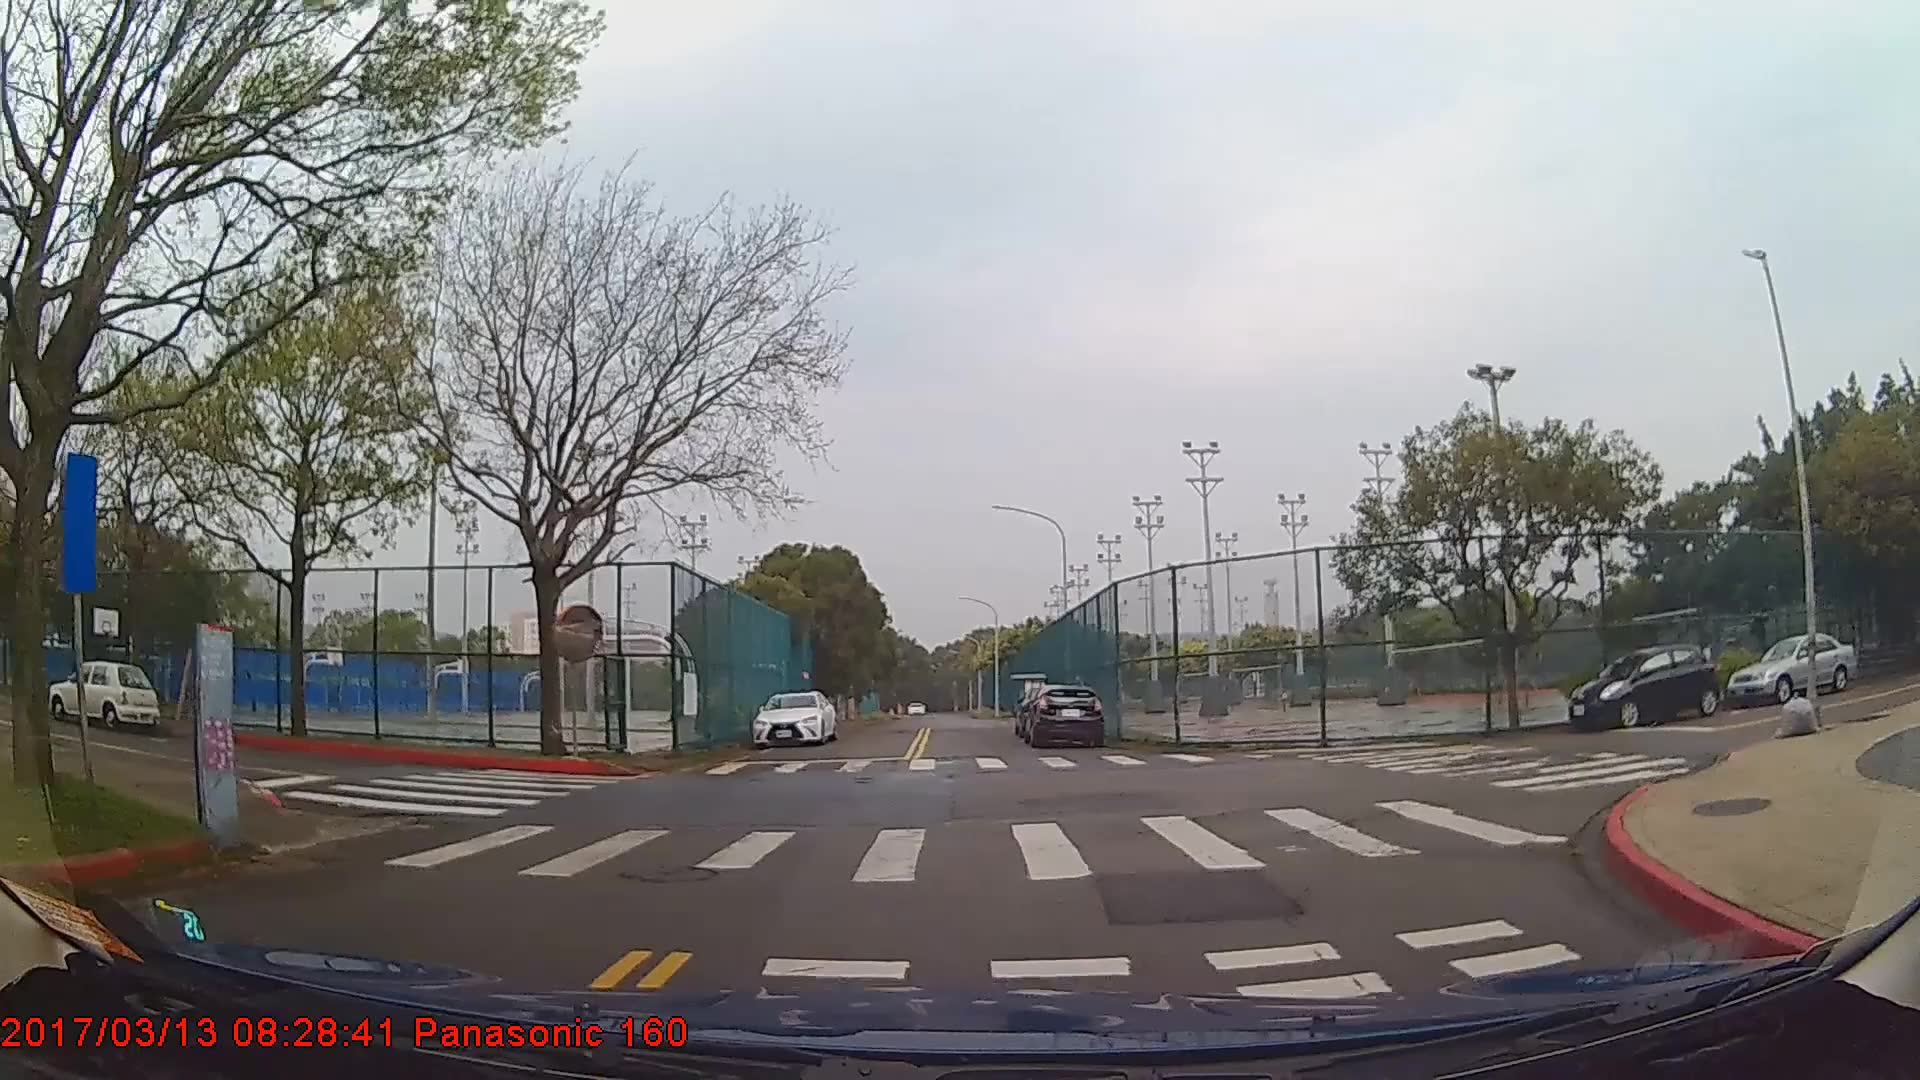vehicle: (1568, 642, 1718, 731), (1726, 633, 1858, 704), (51, 657, 158, 727), (1022, 684, 1102, 749), (752, 688, 835, 748)
